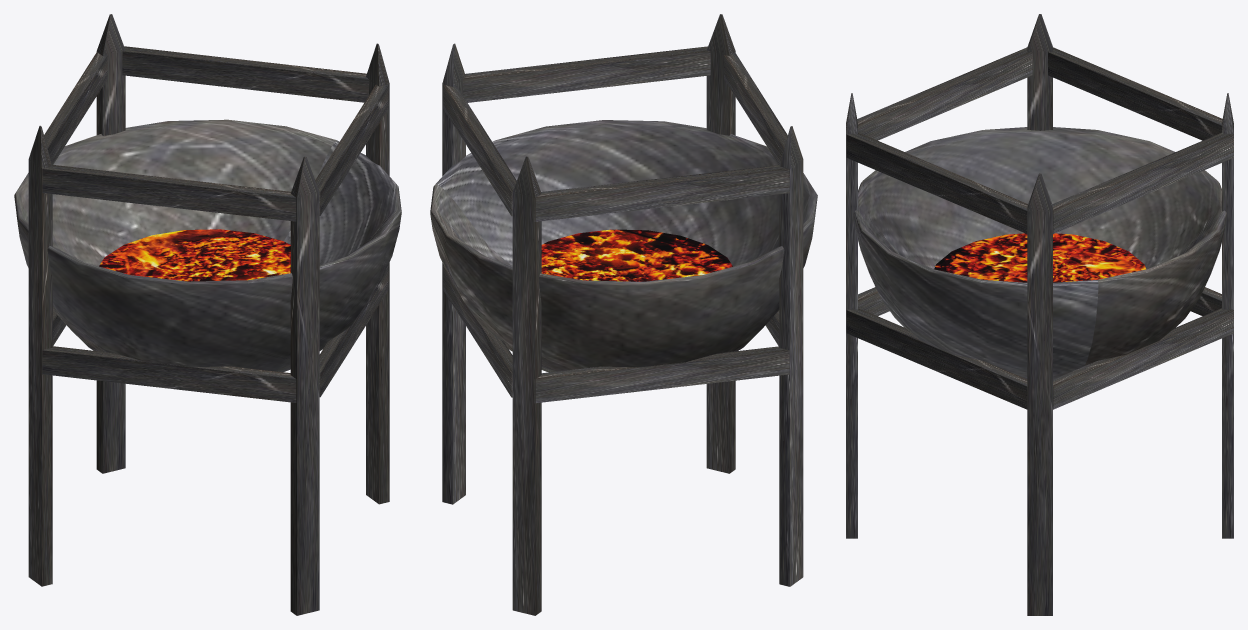
The model's file is Brazier.fbx.
3 views of the same model, side by side, from view 1: azimuth 30°, elevation 25°; view 2: azimuth 150°, elevation 25°; view 3: azimuth 270°, elevation 25° (orthographic). The views are drawn at different scales.
Parts seen in each view (by area): view 1: pCube14; view 2: pCube14; view 3: pCube14.
Part boxes in pixels (box(x1,y1,x2,y2)): pCube14: box(14, 14, 401, 615); pCube14: box(430, 14, 817, 615); pCube14: box(846, 14, 1233, 615).
Size of the model in its own units: 2.06 by 2.57 by 2.06.
